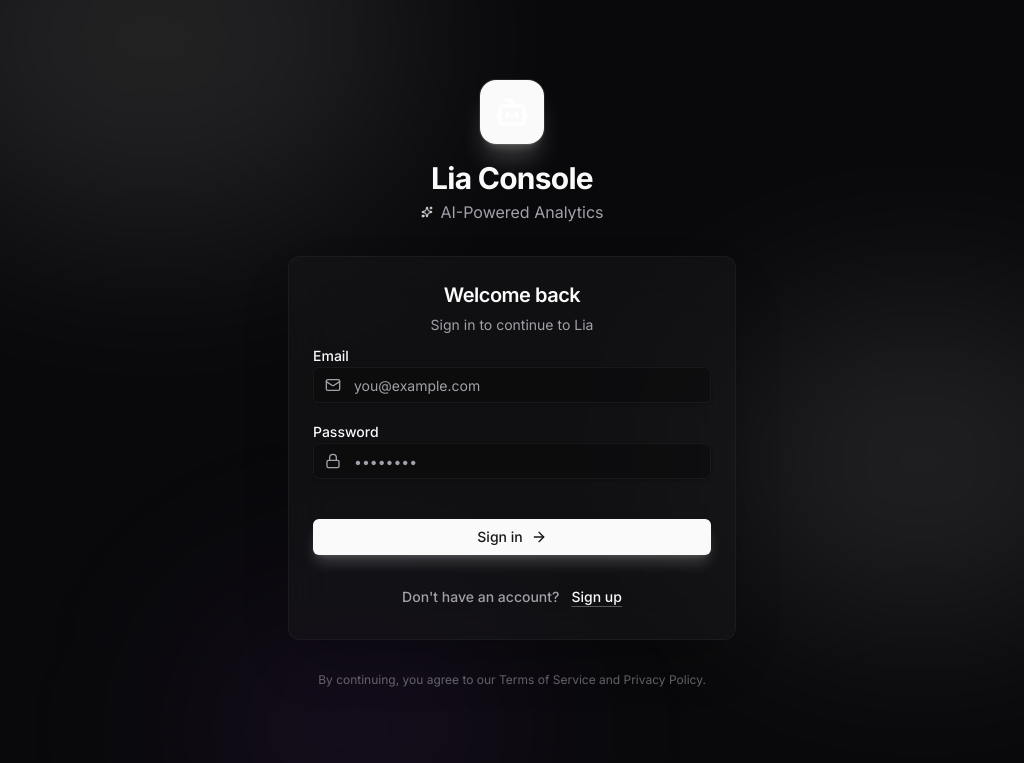
Test case: AuthPage › Register Form Submission › validates username length - too short
Click the button "Don't have an account? Sign up".
click(512, 597)  # box [386,579,638,615]
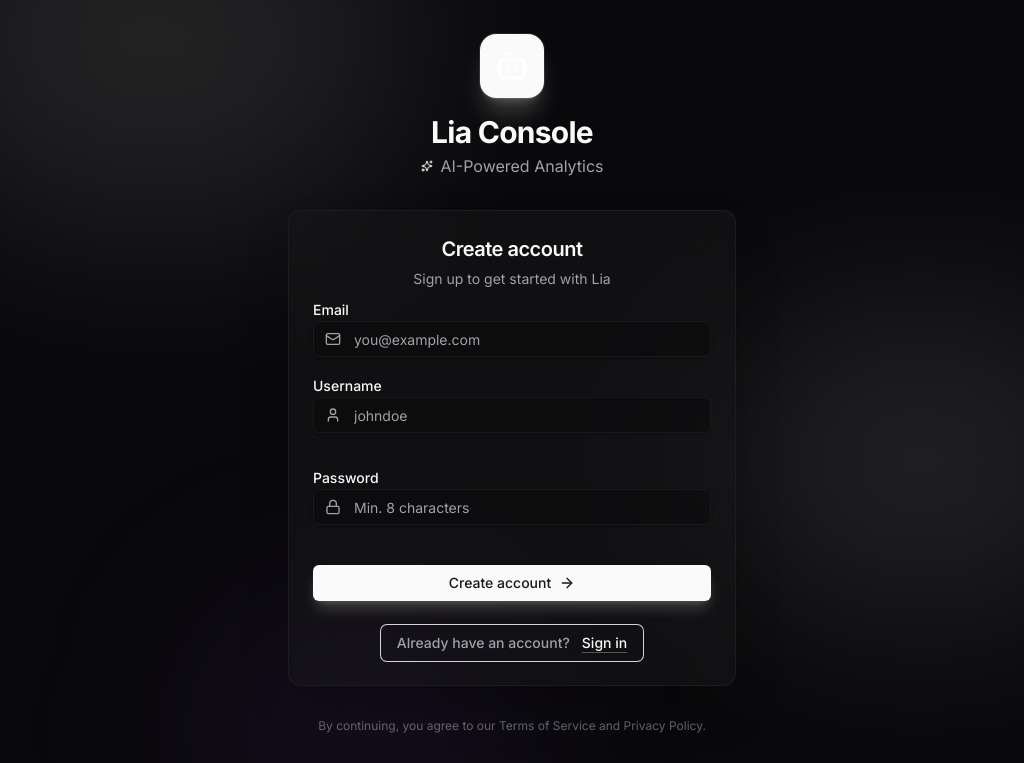
Type "new@example.com" into the field labelled "Email".
click(512, 339); type("new@example.com")  # box [313,321,711,357]
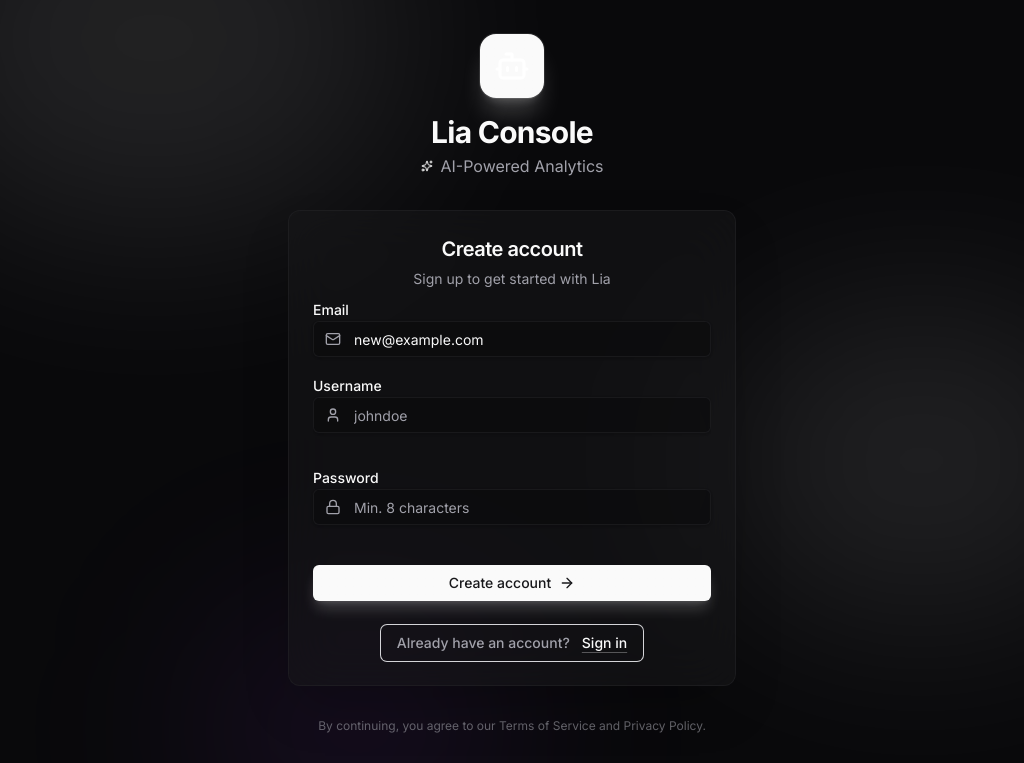
Type "ab" into the field labelled "Username".
click(512, 415); type("ab")  # box [313,397,711,433]
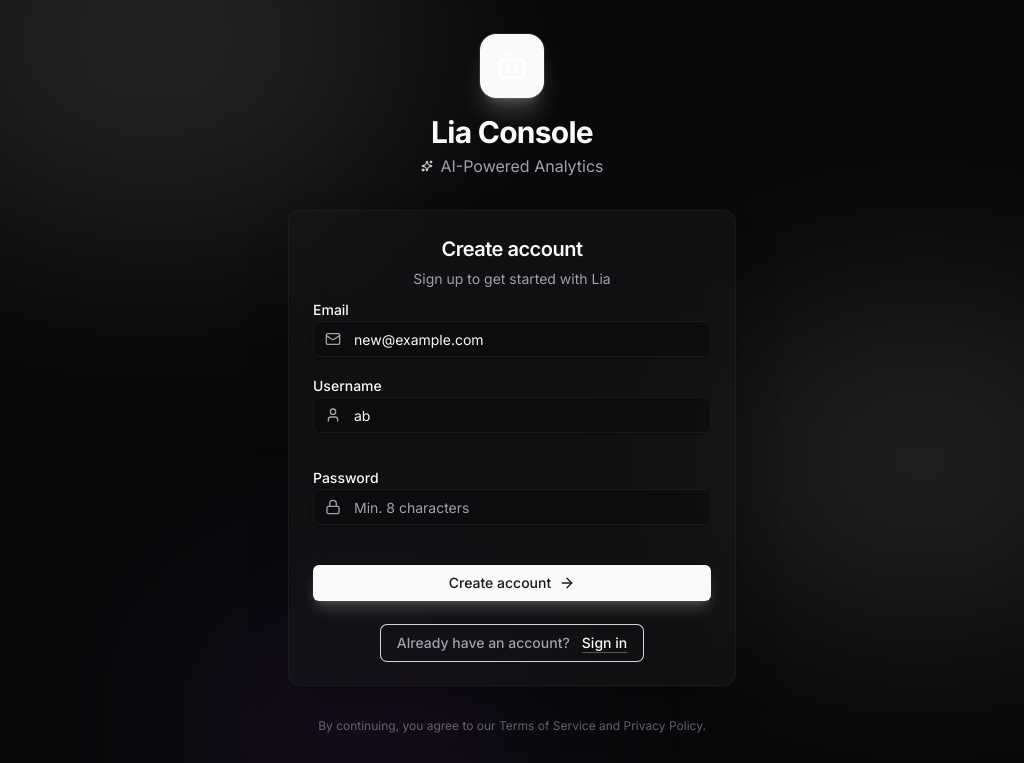
Type "password123" into the password field labelled "Password".
click(512, 507); type("password123")  # box [313,489,711,525]
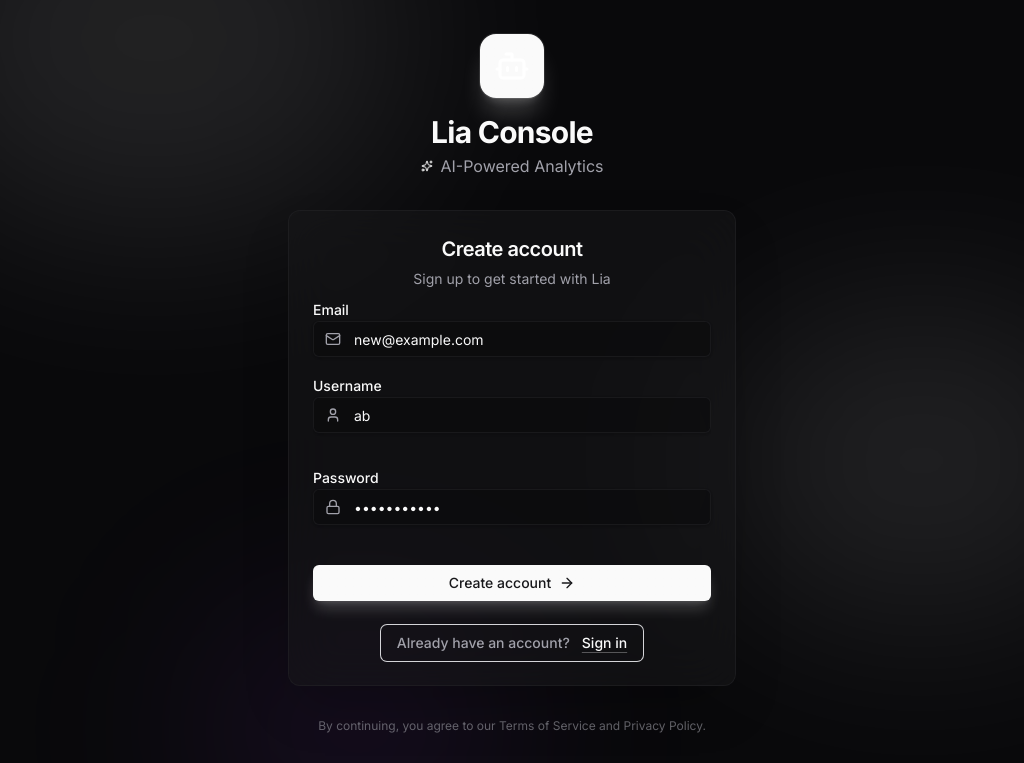
Click the button "Create account".
click(512, 583)  # box [313,565,711,601]
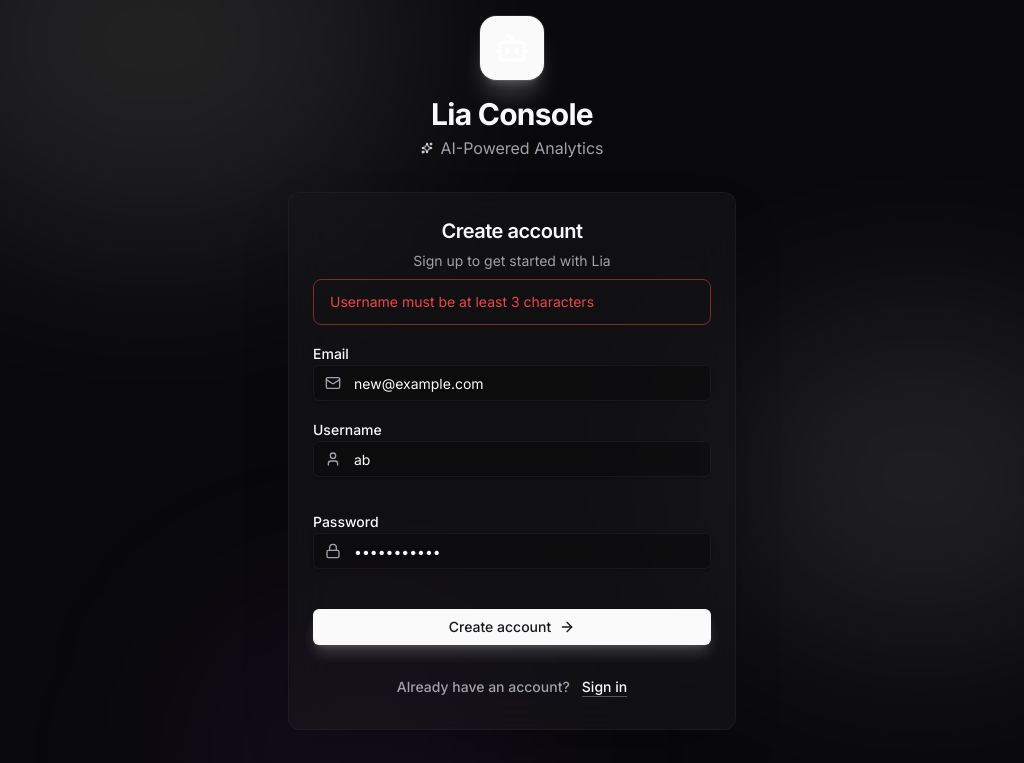
Expected: the text "Username must be at least 3 characters" is shown, [330,293,594,310]
